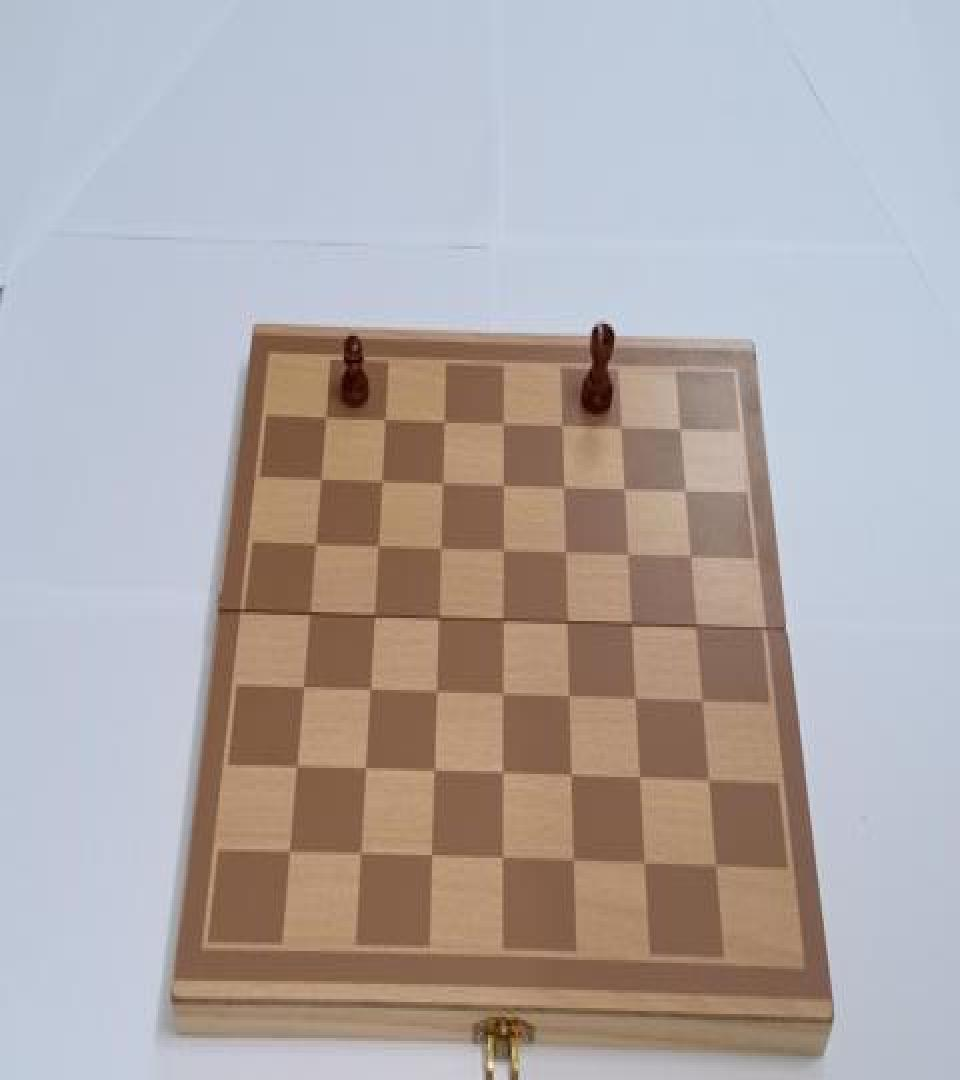xcorner: (434, 406, 452, 434), (494, 472, 512, 500), (678, 478, 696, 506), (315, 404, 333, 431), (310, 465, 328, 492), (304, 532, 322, 559), (299, 603, 317, 630), (293, 678, 311, 705), (279, 843, 297, 870), (374, 405, 392, 432), (371, 468, 389, 495), (368, 534, 386, 561), (364, 604, 382, 631), (356, 759, 374, 786), (351, 844, 369, 871), (433, 470, 451, 497), (431, 537, 449, 564), (427, 683, 445, 710), (425, 762, 443, 789), (494, 538, 512, 565), (494, 609, 512, 636), (494, 684, 512, 711), (495, 849, 513, 876), (553, 411, 571, 438), (555, 474, 573, 501), (557, 540, 575, 567), (559, 612, 577, 639), (562, 687, 580, 714), (564, 766, 582, 793), (567, 852, 585, 879), (613, 414, 631, 441), (617, 477, 635, 504), (620, 543, 638, 570), (629, 689, 647, 716), (633, 768, 651, 795), (672, 415, 690, 442), (683, 545, 701, 572), (689, 615, 707, 642), (703, 771, 721, 798), (710, 857, 728, 884), (286, 758, 304, 784), (360, 680, 378, 706), (429, 608, 447, 634), (423, 848, 441, 874), (494, 410, 512, 436), (495, 764, 513, 790), (624, 614, 642, 640), (638, 854, 656, 880), (696, 692, 714, 718)
